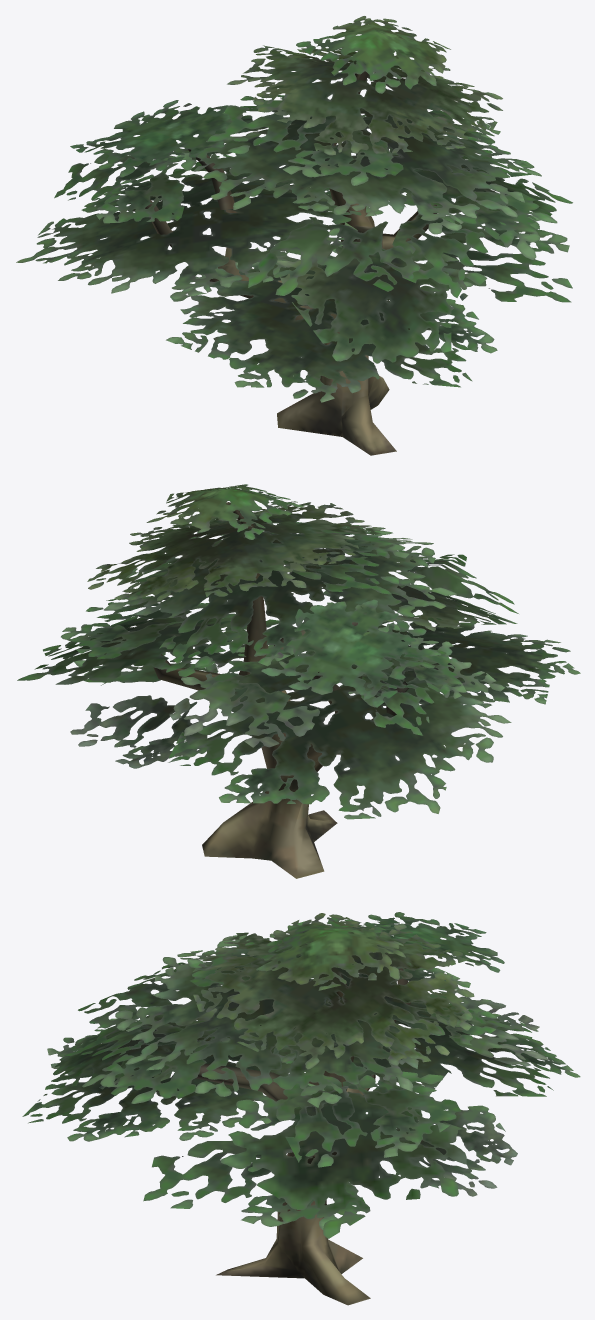
File: tree_armello_low_007.fbx
3 renders of one model, top to bottom at view 1: azimuth 30°, elevation 25°; view 2: azimuth 150°, elevation 25°; view 3: azimuth 270°, elevation 25°, orthographic. The views are drawn at different scales.
Parts seen in each view (by area): view 1: polySurface265; view 2: polySurface265; view 3: polySurface265.
Boxes of the visible parts, box(x1,y1,x2,y2) form: polySurface265: box(16, 16, 572, 455); polySurface265: box(17, 484, 580, 878); polySurface265: box(22, 912, 580, 1305).
Size of the model in its own units: 25.66 by 18.43 by 25.81.
